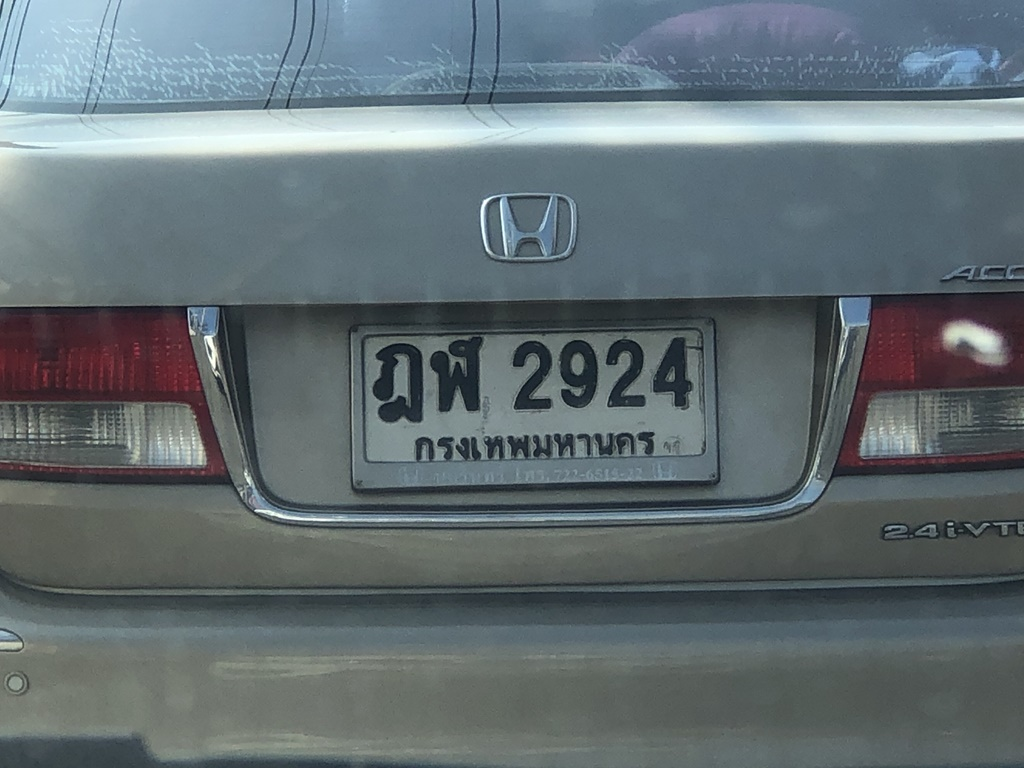four: (649, 331, 714, 427)
nine: (553, 331, 604, 415)
two: (598, 337, 655, 422), (506, 342, 560, 418)
